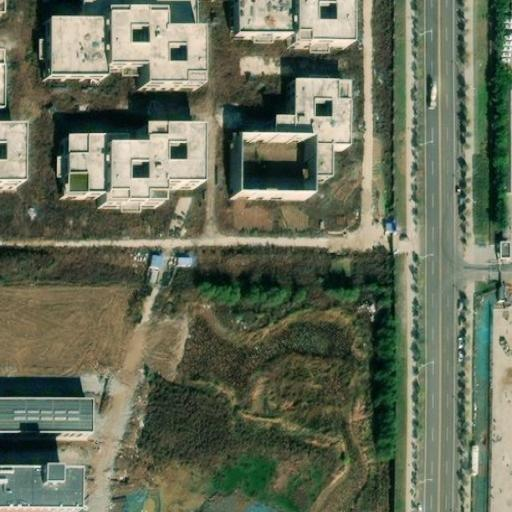building: (229, 88, 341, 199), (45, 10, 202, 85), (59, 127, 201, 205), (231, 0, 346, 49), (0, 399, 94, 431), (0, 120, 24, 186), (0, 46, 11, 106), (145, 251, 164, 277), (174, 252, 194, 267)
